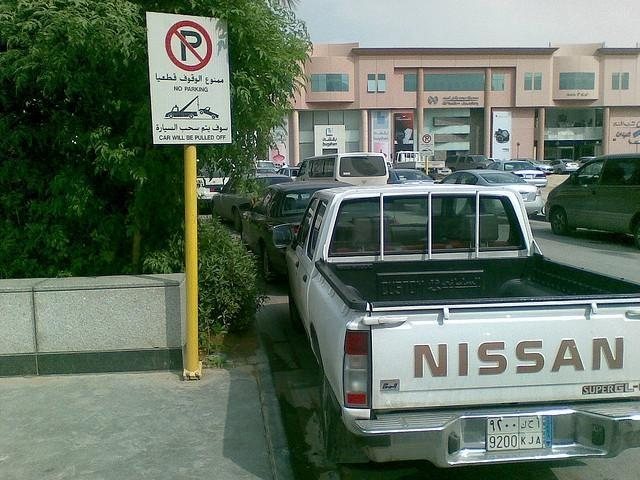car: (238, 176, 362, 278), (544, 155, 640, 245), (436, 168, 543, 218), (210, 174, 294, 236), (390, 160, 578, 184), (295, 153, 391, 185), (484, 160, 550, 188), (196, 177, 232, 200), (444, 154, 492, 171), (512, 159, 556, 175), (276, 167, 302, 182), (246, 167, 277, 175), (576, 158, 594, 168)
truck: (276, 184, 640, 469), (510, 158, 554, 174)
